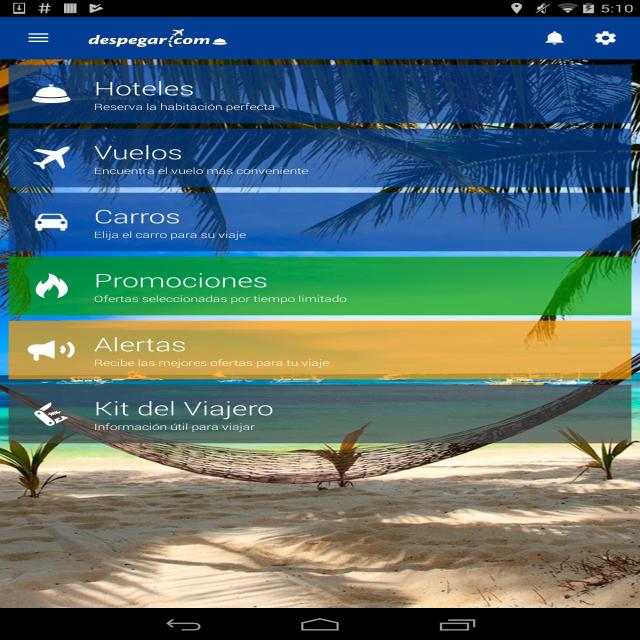button: (9, 193, 630, 253), (9, 129, 628, 186), (12, 258, 630, 314), (9, 321, 629, 376), (13, 66, 630, 121), (9, 388, 629, 442), (590, 28, 624, 47), (538, 30, 574, 47), (26, 30, 52, 46)
heading: (93, 398, 275, 420), (92, 272, 270, 290), (94, 78, 195, 100), (88, 142, 185, 164), (92, 335, 188, 355), (92, 208, 182, 228)
image: (0, 60, 640, 607), (88, 27, 239, 50), (25, 338, 77, 367), (28, 142, 70, 172), (30, 273, 74, 301), (31, 400, 70, 429), (32, 81, 71, 105), (32, 212, 69, 234)
text: (90, 293, 348, 305), (90, 100, 278, 114), (90, 358, 332, 368), (90, 167, 310, 176), (89, 422, 260, 432), (90, 231, 250, 241)
